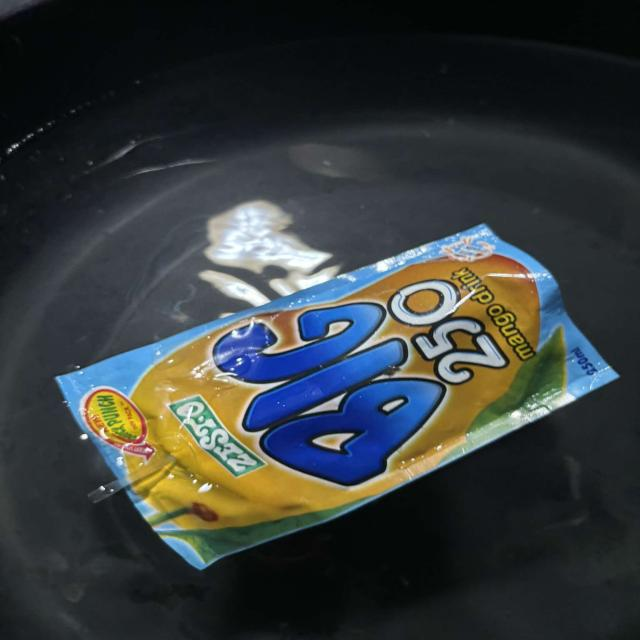Plastic Pouch: (57, 227, 549, 584)
